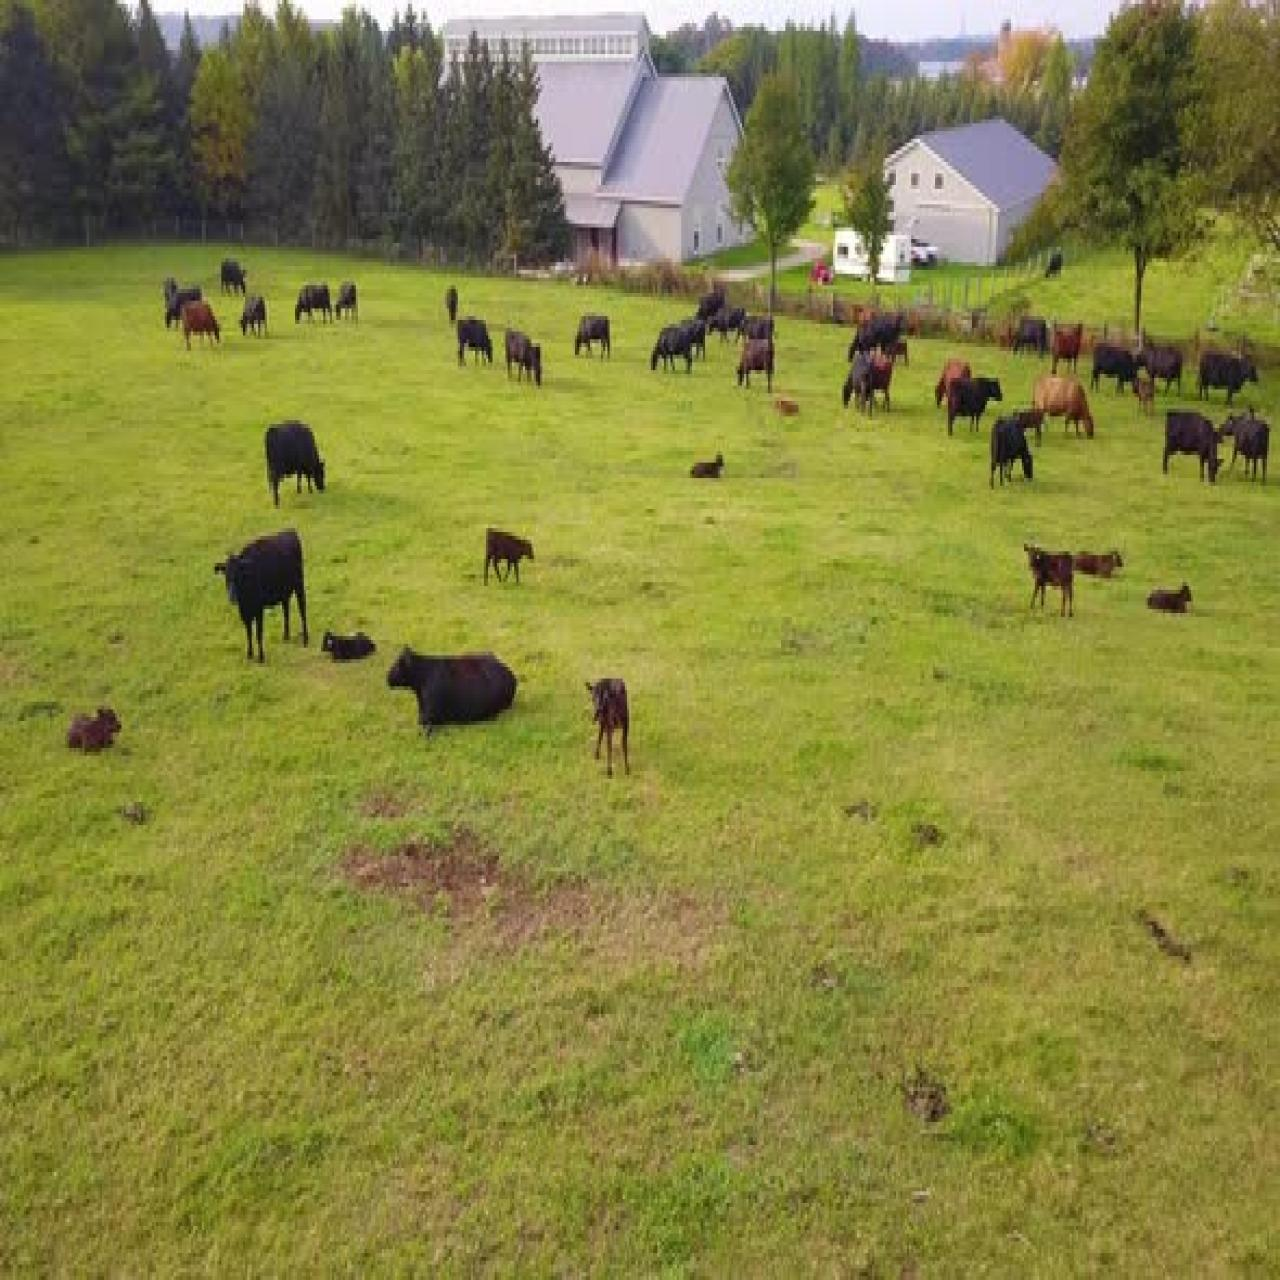cow: (386, 643, 525, 738), (219, 529, 314, 662), (262, 418, 328, 508), (588, 671, 634, 780), (1164, 406, 1228, 481), (64, 694, 128, 769), (936, 372, 1004, 439), (1024, 543, 1081, 619), (1033, 377, 1096, 442), (988, 413, 1039, 490), (1144, 568, 1196, 642), (844, 348, 900, 416), (482, 530, 537, 590), (1090, 339, 1145, 398), (1198, 349, 1255, 404), (686, 441, 737, 502), (648, 322, 702, 376), (1138, 339, 1192, 393), (181, 296, 226, 358), (1232, 415, 1273, 482), (732, 332, 774, 392), (1013, 303, 1051, 369), (506, 330, 550, 386), (456, 319, 496, 369), (571, 314, 611, 362), (294, 278, 330, 322), (216, 258, 250, 300), (238, 297, 270, 340), (338, 280, 362, 321), (440, 282, 460, 325)
